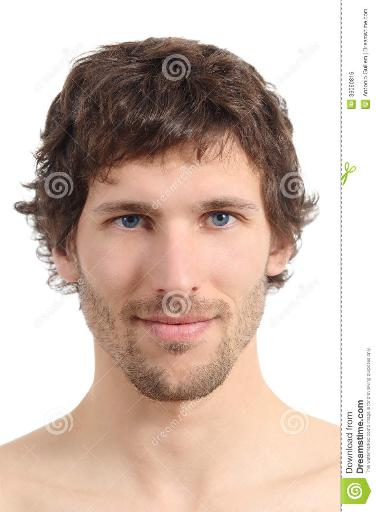left_eye: (197, 209, 249, 231)
left_lip_corner: (201, 312, 224, 331)
right_eye: (105, 212, 156, 233)
right_lip_corner: (128, 310, 153, 332)
